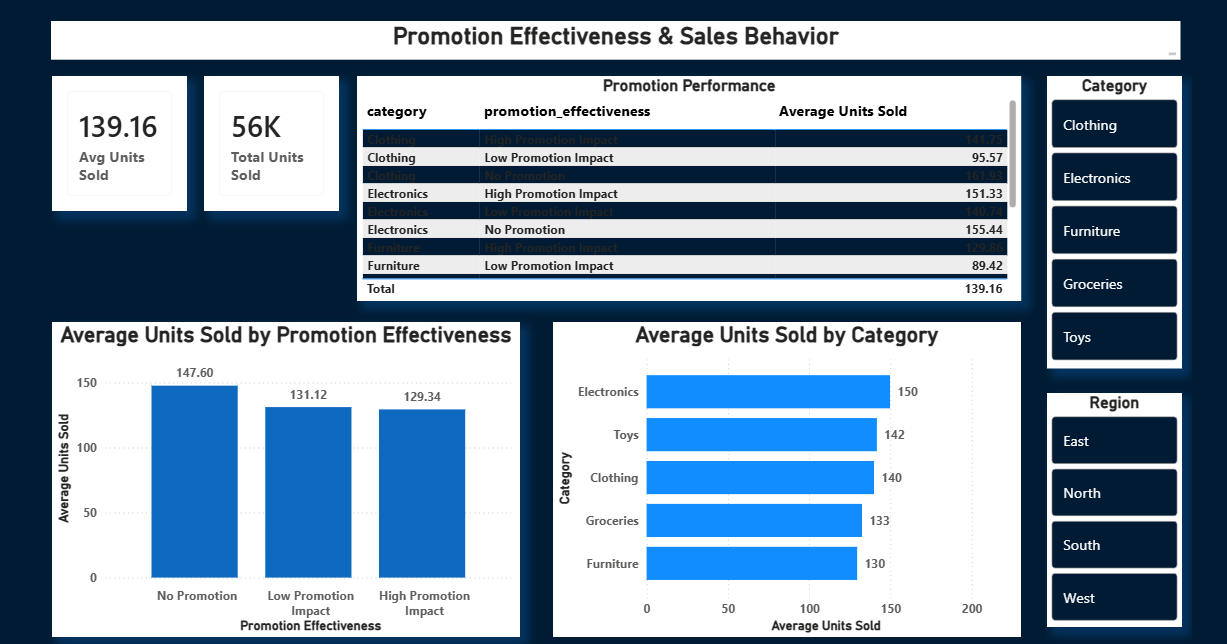

This screenshot's page, from the dashboard's own definition file:
{"tool":"powerbi","page":{"name":"Promotion Effectiveness & Sales Behavior","canvas":[1280,720],"ordinal":2},"visuals":[{"type":"cardVisual","fields":{"Data":["bi_retail_operations_final.Average Units Sold"]},"box":[13.3,73.3,150,150],"z":0},{"type":"textbox","title":"Promotion Effectiveness & Sales Behavior","box":[12.5,11.7,1255,43.3],"z":1000},{"type":"clusteredColumnChart","title":"Average Units Sold by Promotion Effectiveness","fields":{"Category":["bi_retail_operations_final.promotion_effectiveness"],"Y":["bi_retail_operations_final.Average Units Sold"]},"box":[13.3,346.7,520,350],"z":2000},{"type":"advancedSlicerVisual","title":"Category","fields":{"Values":["bi_retail_operations_final.category"]},"box":[1118.3,73.3,150,325],"z":3000},{"type":"advancedSlicerVisual","title":"Region","fields":{"Values":["bi_retail_operations_final.region"]},"box":[1118.3,425,150,260],"z":4000},{"type":"tableEx","title":"Promotion Performance","fields":{"Values":["bi_retail_operations_final.category","bi_retail_operations_final.promotion_effectiveness","bi_retail_operations_final.Average Units Sold"]},"box":[351.7,73.3,738.3,250],"z":5000},{"type":"cardVisual","fields":{"Data":["bi_retail_operations_final.Total Units Sold"]},"box":[181.7,73.3,150,150],"z":6000},{"type":"barChart","title":"Average Units Sold by Category","fields":{"Y":["bi_retail_operations_final.Average Units Sold"],"Category":["bi_retail_operations_final.category"]},"box":[570,346.7,520,350],"z":7000}]}

Visuals, with their boxes on the page's 1280x720 design canvas (x1, y1, x2, y2). These are canvas units, not pixel positions in the 1227x644 screenshot, which may show the page scaled, cropped or inside an application window:
cardVisual - bi_retail_operations_final.Average Units Sold: box=[13, 73, 163, 223]
"Promotion Effectiveness & Sales Behavior" textbox: box=[12, 12, 1268, 55]
"Average Units Sold by Promotion Effectiveness" clusteredColumnChart: box=[13, 347, 533, 697]
"Category" advancedSlicerVisual: box=[1118, 73, 1268, 398]
"Region" advancedSlicerVisual: box=[1118, 425, 1268, 685]
"Promotion Performance" tableEx: box=[352, 73, 1090, 323]
cardVisual - bi_retail_operations_final.Total Units Sold: box=[182, 73, 332, 223]
"Average Units Sold by Category" barChart: box=[570, 347, 1090, 697]
